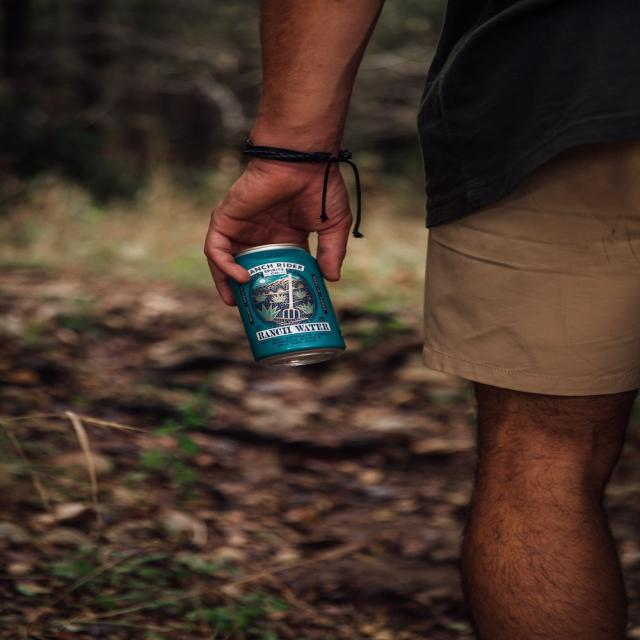can: (227, 243, 347, 369)
